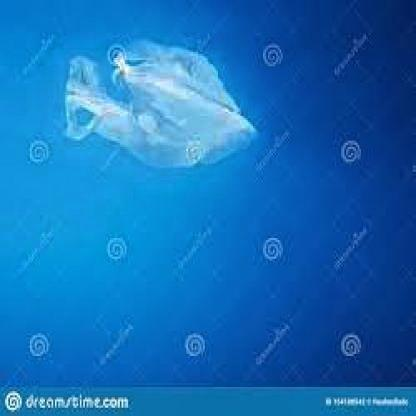pbag: (63, 37, 260, 174)
